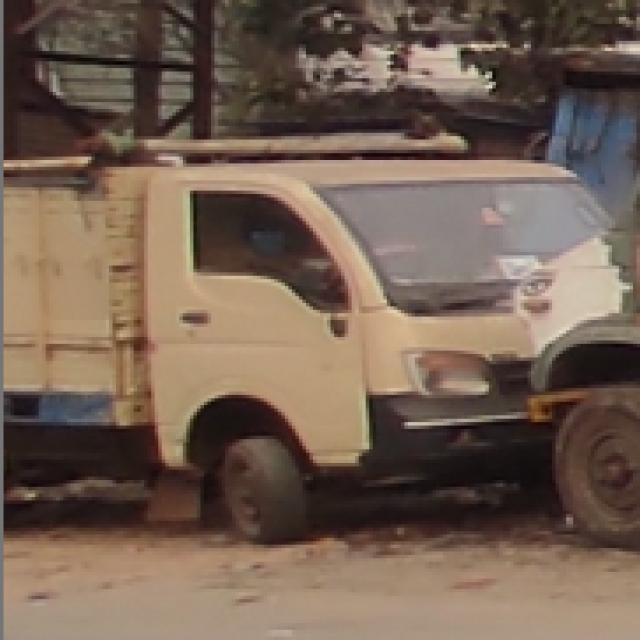minitruck: (3, 126, 640, 561)
